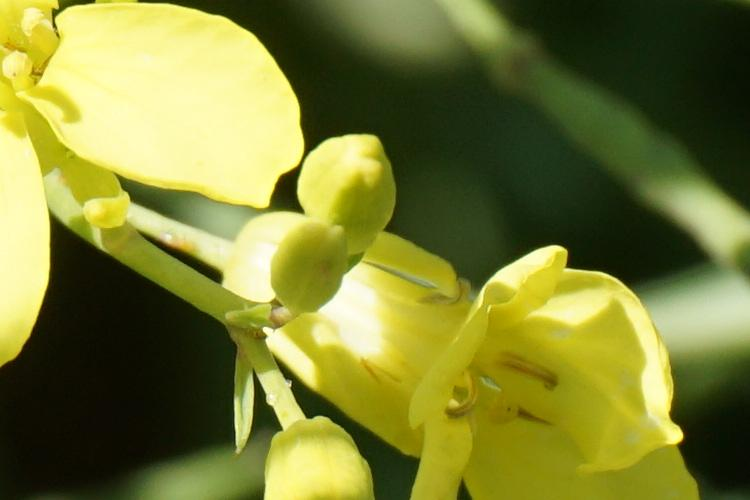bud: (293, 133, 410, 264), (267, 223, 352, 330)
yellow: (3, 5, 284, 320), (342, 260, 694, 500)
